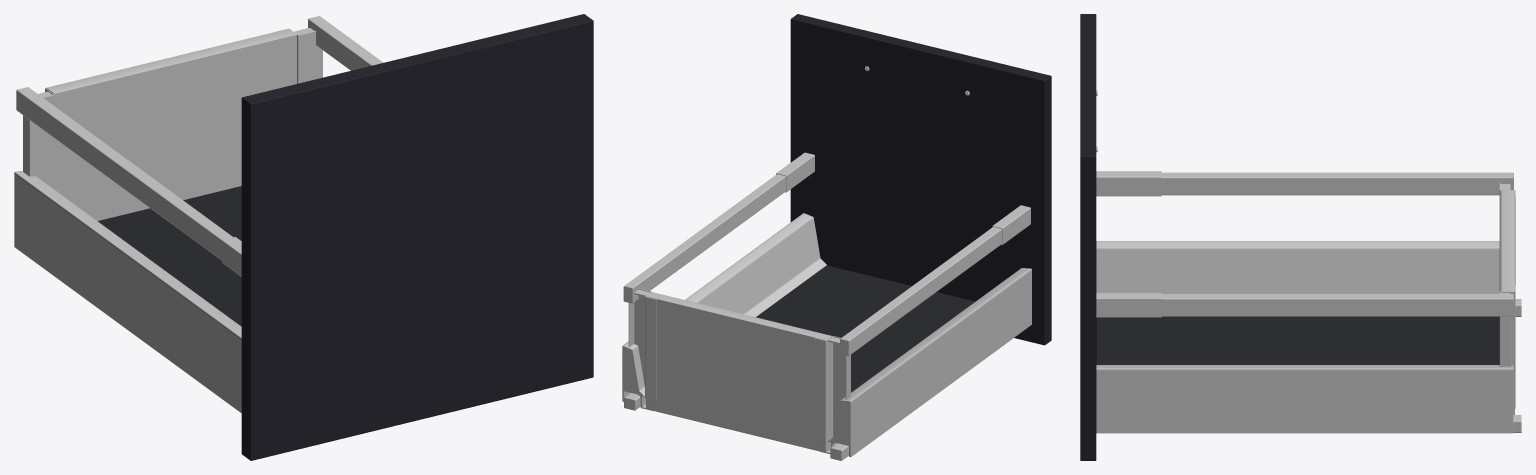
The model's file is SM_Kitchen_06_Drawer_03.dae.
3 views of the same model, side by side, from view 1: azimuth 30°, elevation 25°; view 2: azimuth 150°, elevation 25°; view 3: azimuth 270°, elevation 25° (orthographic). The views are drawn at different scales.
Parts seen in each view (by area): view 1: SM_Kitchen_06_Base_Drawer_03; view 2: SM_Kitchen_06_Base_Drawer_03; view 3: SM_Kitchen_06_Base_Drawer_03.
Boxes of the visible parts, box(x1,y1,x2,y2) form: SM_Kitchen_06_Base_Drawer_03: box(14, 14, 593, 460); SM_Kitchen_06_Base_Drawer_03: box(622, 14, 1051, 460); SM_Kitchen_06_Base_Drawer_03: box(1080, 14, 1521, 460).
Size of the model in its own units: 0.398 by 0.5199 by 0.396.
